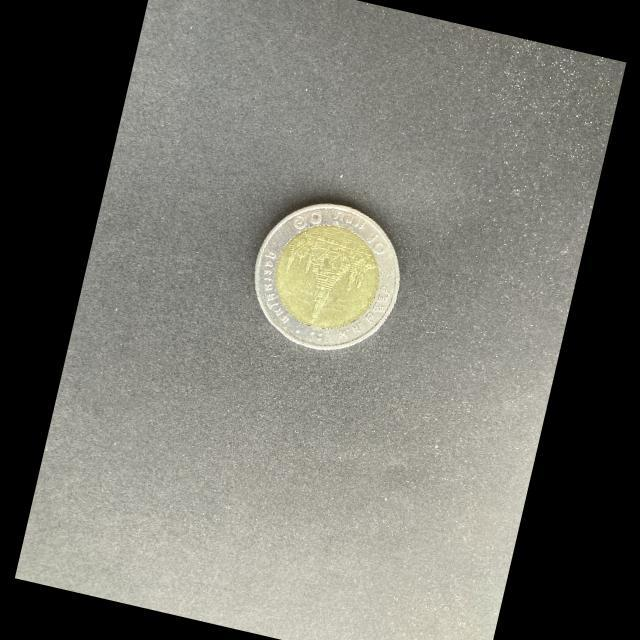10 Bath: (252, 197, 407, 357)
